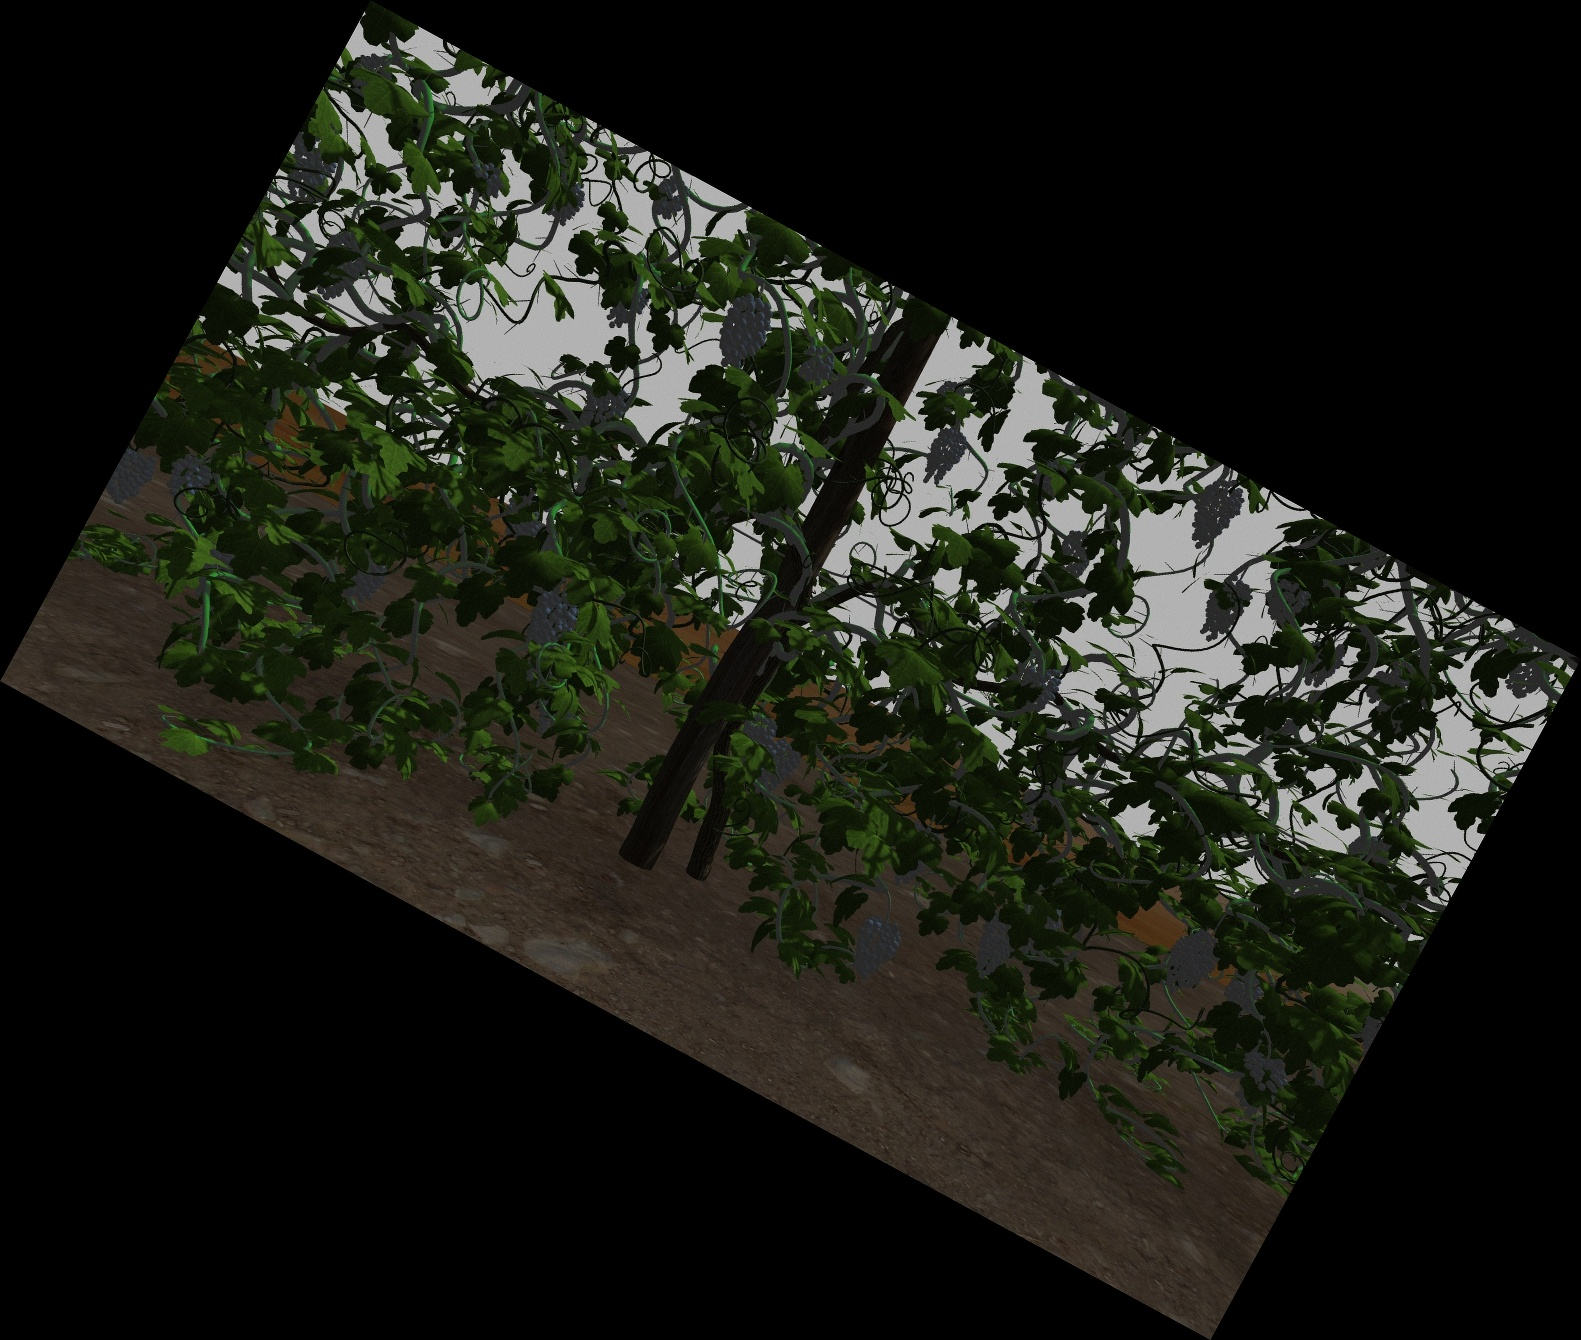grape: (722, 291, 769, 367), (1237, 1053, 1280, 1117), (1193, 481, 1233, 546), (320, 237, 360, 298), (1170, 931, 1213, 988), (531, 588, 570, 647), (854, 919, 890, 984), (1205, 580, 1242, 639), (975, 919, 1009, 976), (584, 382, 624, 429), (293, 149, 328, 202), (170, 451, 206, 502), (927, 429, 957, 487), (1019, 665, 1056, 711), (118, 451, 149, 506), (344, 557, 380, 604), (1265, 582, 1304, 623), (1511, 651, 1545, 697), (761, 742, 791, 792), (1058, 530, 1092, 576), (1225, 976, 1261, 1012), (471, 161, 505, 193), (656, 181, 683, 219), (802, 350, 832, 383), (743, 715, 777, 744)
